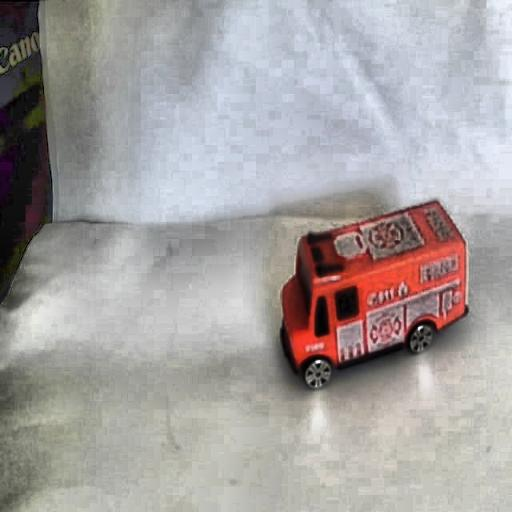fire_truck: (275, 198, 470, 388), (280, 273, 309, 353)
